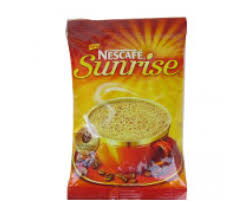nescafe-classic/gold-small: (66, 18, 189, 201)
